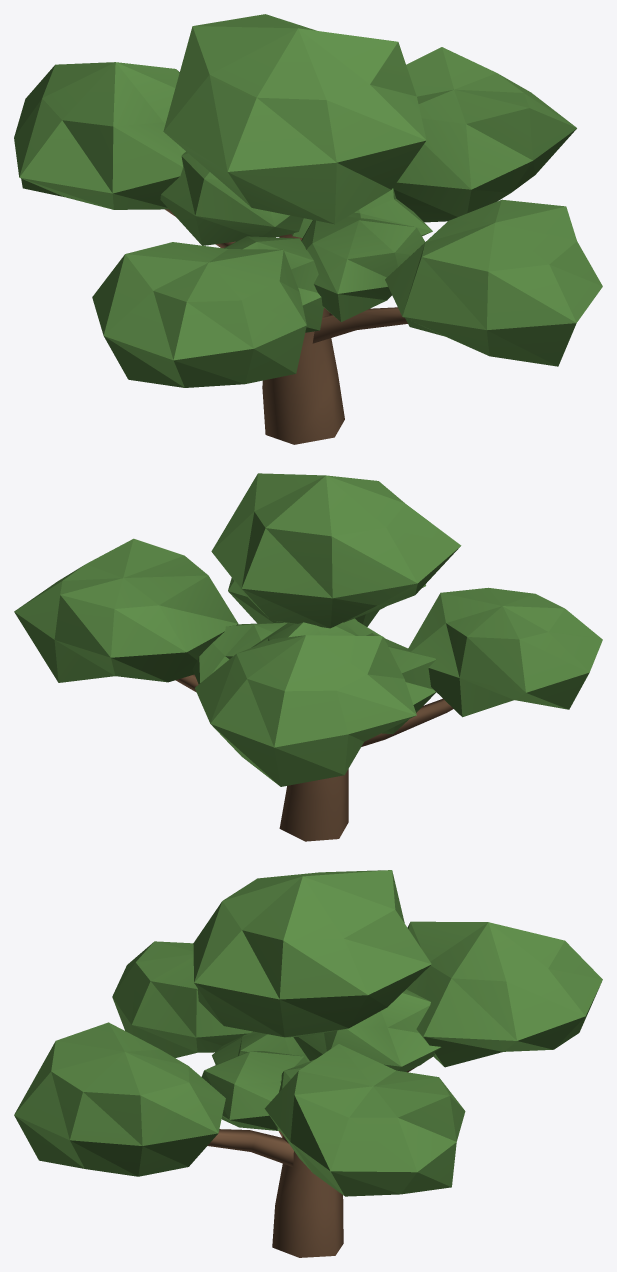
File: oak_1.glb
3 renders of one model, top to bottom at view 1: azimuth 30°, elevation 25°; view 2: azimuth 150°, elevation 25°; view 3: azimuth 270°, elevation 25°, orthographic. The views are drawn at different scales.
Visible parts, largest first — view 1: oak_1; view 2: oak_1; view 3: oak_1.
Boxes of the visible parts, x1=… form: oak_1: x1=14, y1=14, x2=602, y2=444; oak_1: x1=14, y1=473, x2=602, y2=841; oak_1: x1=14, y1=870, x2=602, y2=1257.
Bounding box in the file's own units: 7.32 × 5.21 × 7.57.
